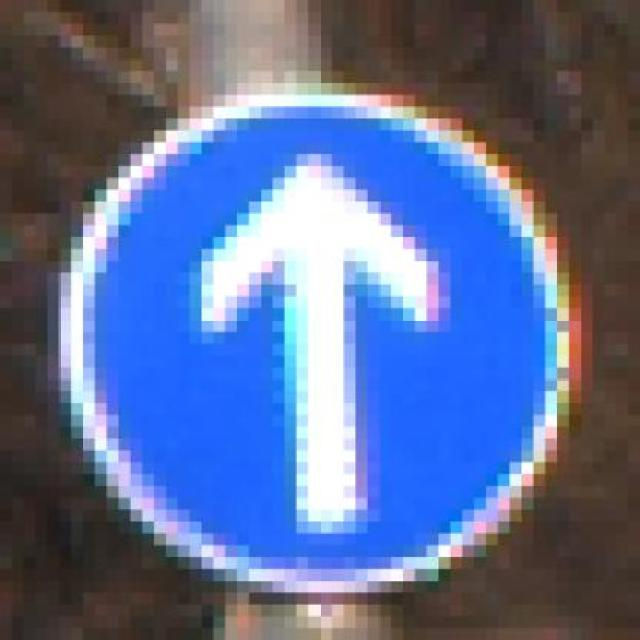Straight Ahead Only: (47, 83, 593, 605)
